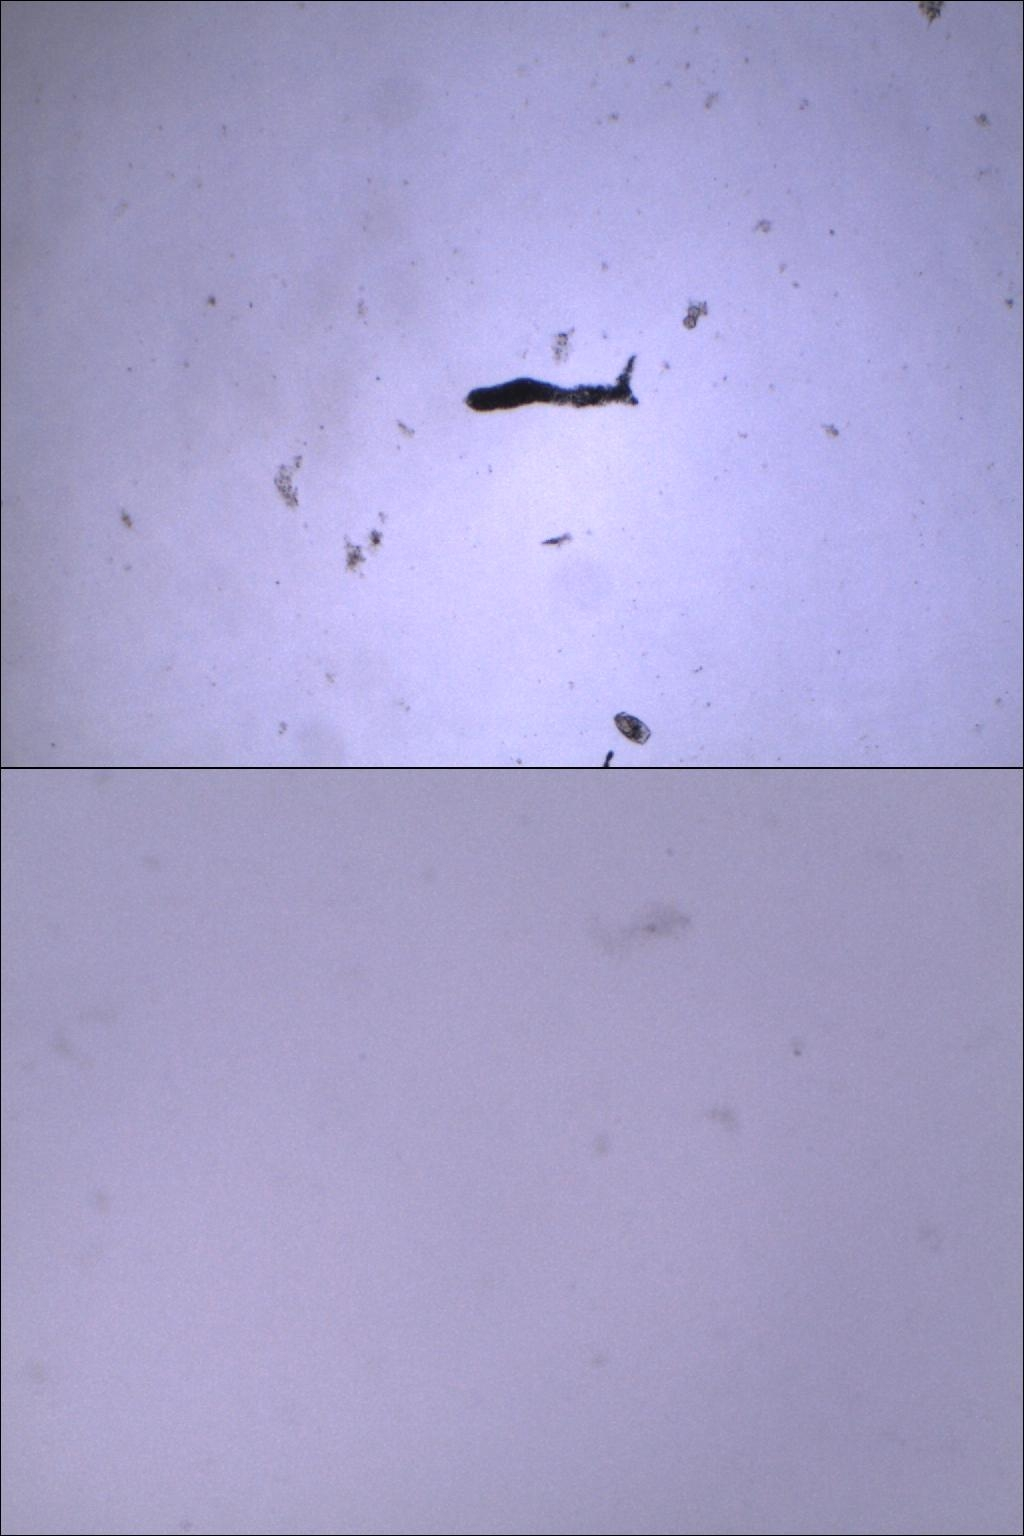N.Fowleri Amoeba: (555, 880, 719, 974)
Proteus Amoeba: (456, 342, 666, 433)
